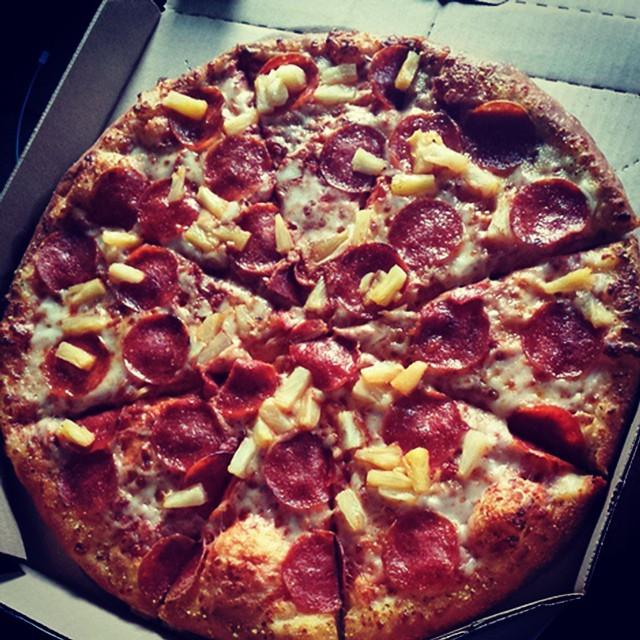pepperoni: (378, 506, 466, 602), (374, 388, 464, 476), (518, 297, 602, 384), (404, 292, 493, 374), (502, 401, 594, 475), (259, 430, 338, 512), (509, 175, 590, 250), (282, 529, 348, 616), (462, 99, 539, 172), (336, 241, 408, 319), (287, 323, 365, 394), (385, 197, 465, 266), (135, 532, 210, 604), (120, 312, 191, 388), (150, 396, 227, 466), (317, 121, 386, 197), (226, 201, 297, 274), (386, 110, 463, 177), (38, 332, 115, 398), (110, 244, 182, 314), (202, 134, 273, 204), (56, 448, 124, 520), (35, 228, 102, 299), (204, 356, 279, 418), (137, 180, 200, 247), (256, 52, 320, 114), (89, 165, 144, 236), (170, 86, 228, 150), (178, 450, 232, 504), (369, 44, 411, 110), (266, 261, 304, 307)
pizza: (0, 30, 640, 640)
